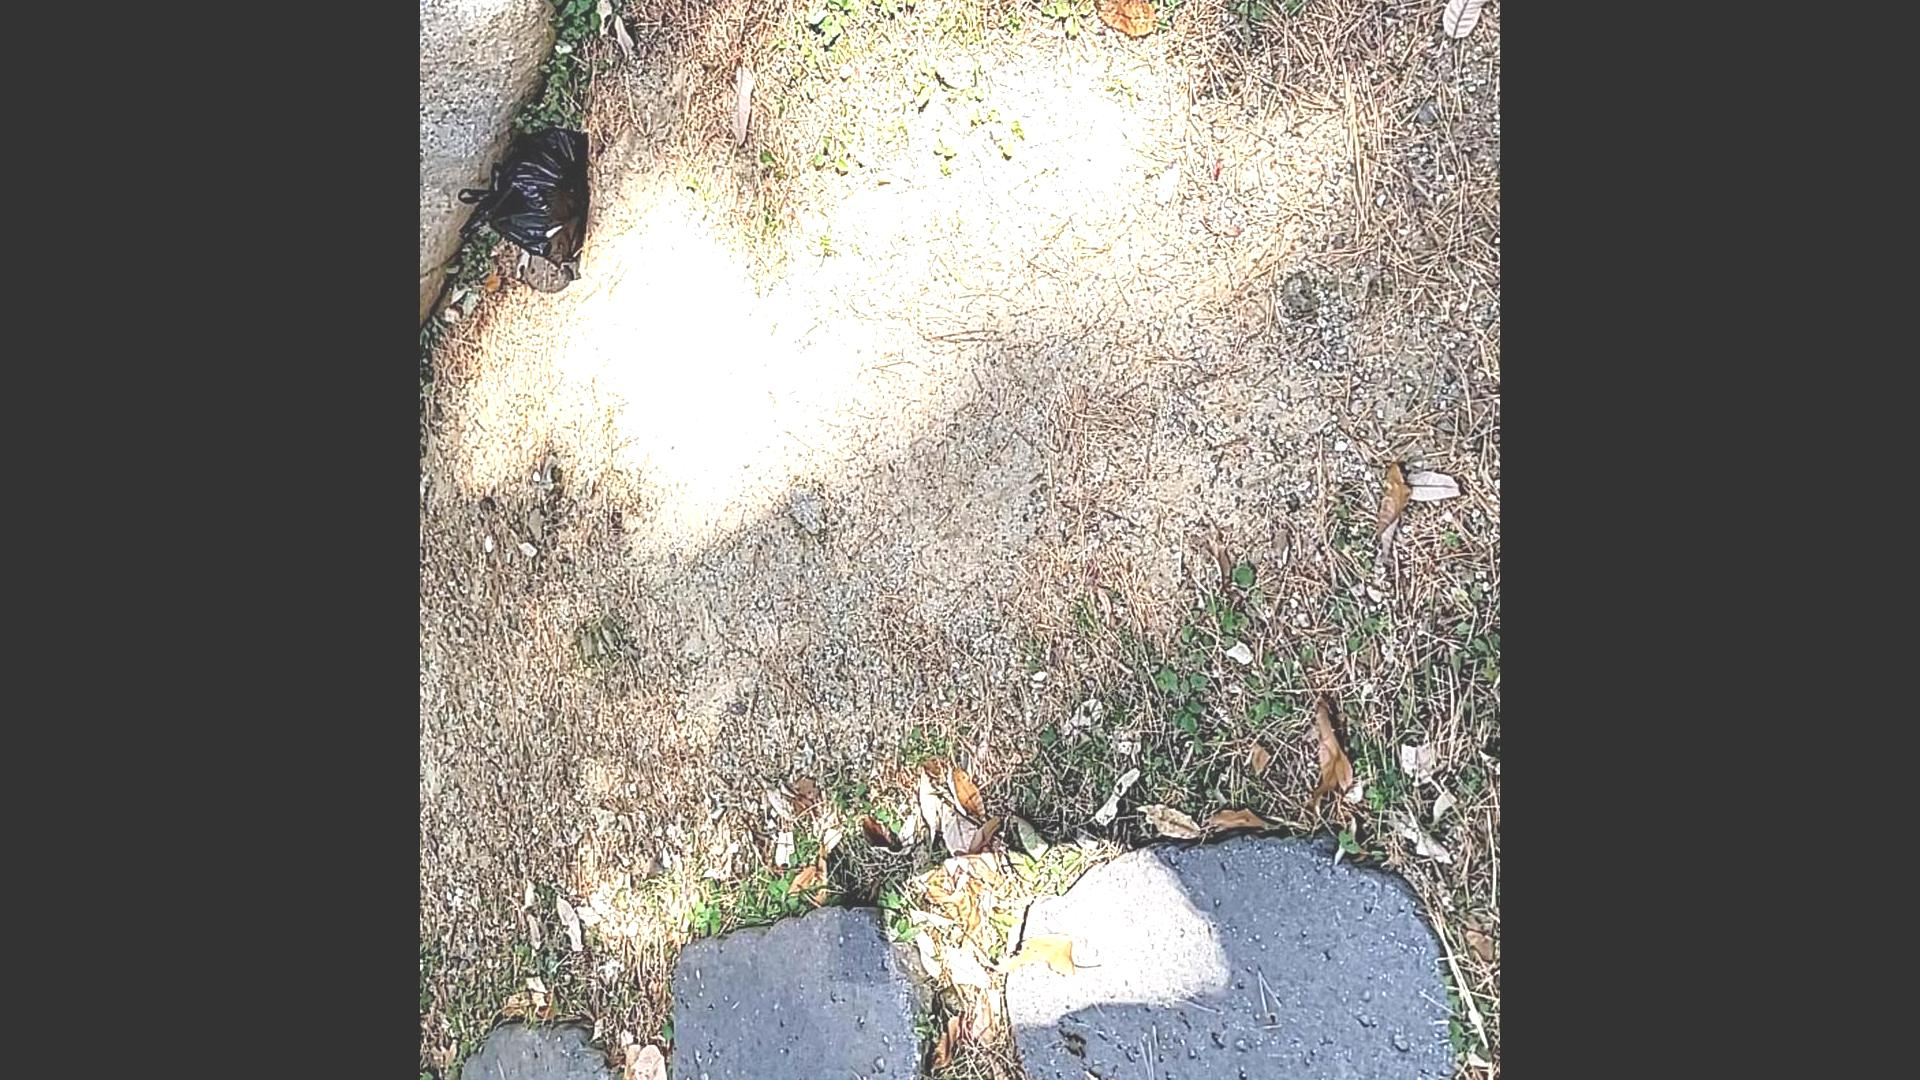black_bag: (454, 119, 595, 280)
